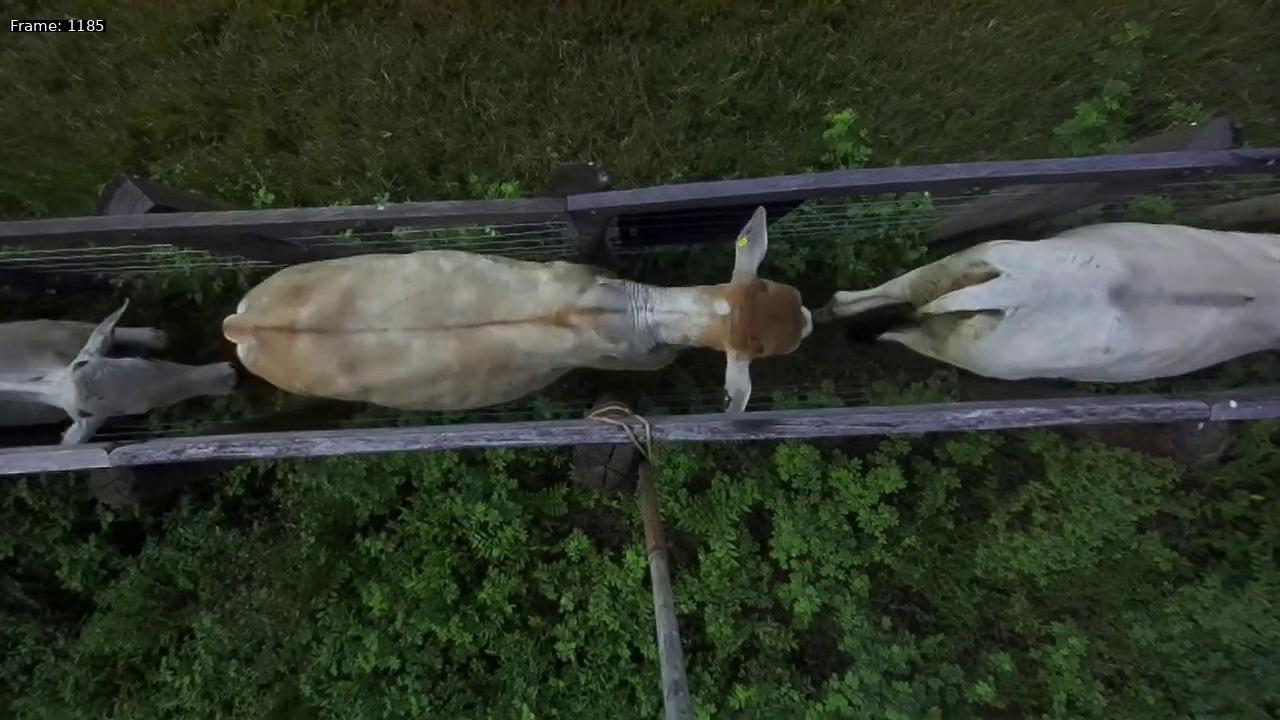Dorso: (235, 242, 633, 415)
cattle: (209, 199, 822, 426)
